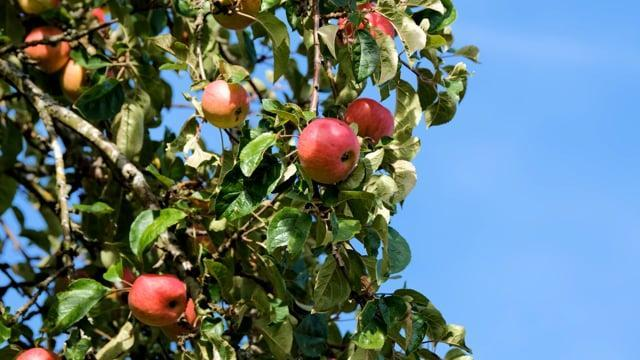apple: (294, 119, 359, 187), (128, 275, 190, 334), (343, 98, 394, 145), (201, 80, 249, 129)
